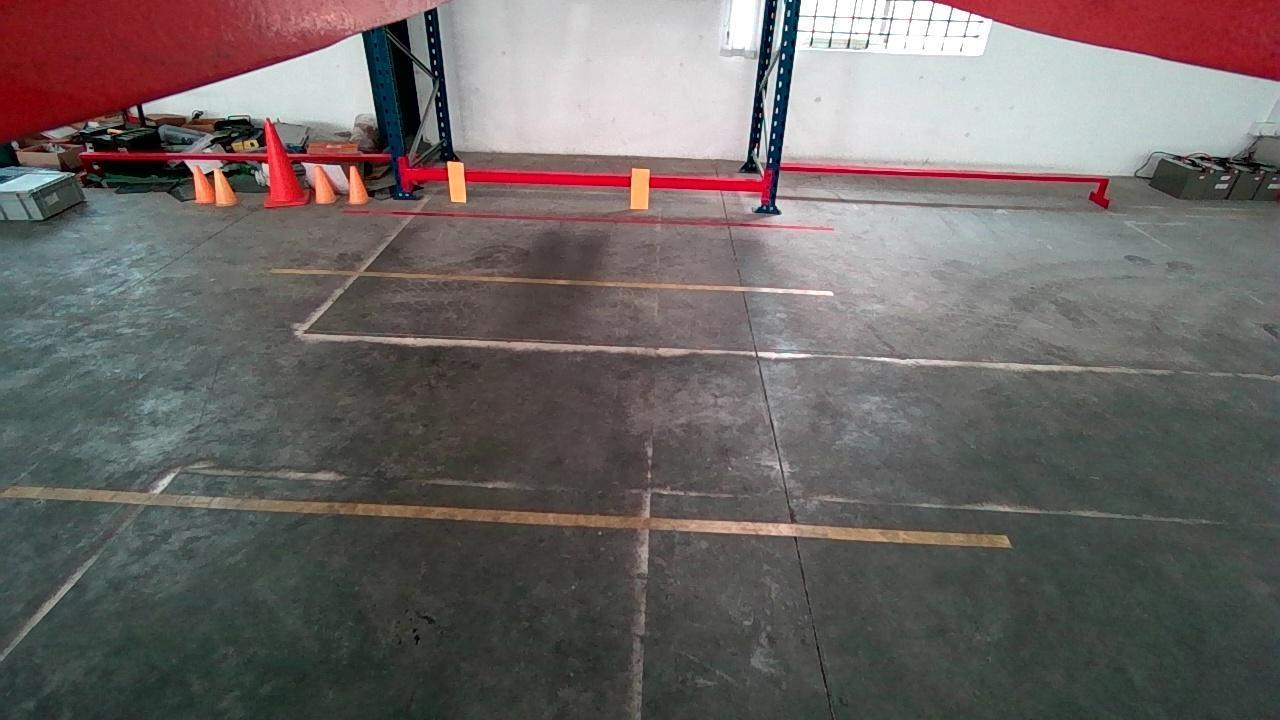h_rack: (407, 170, 764, 192)
orange_strip: (629, 168, 650, 209), (447, 161, 466, 203)
red_line: (343, 207, 834, 229)
yellow_line: (0, 486, 1016, 551), (271, 266, 836, 296)
